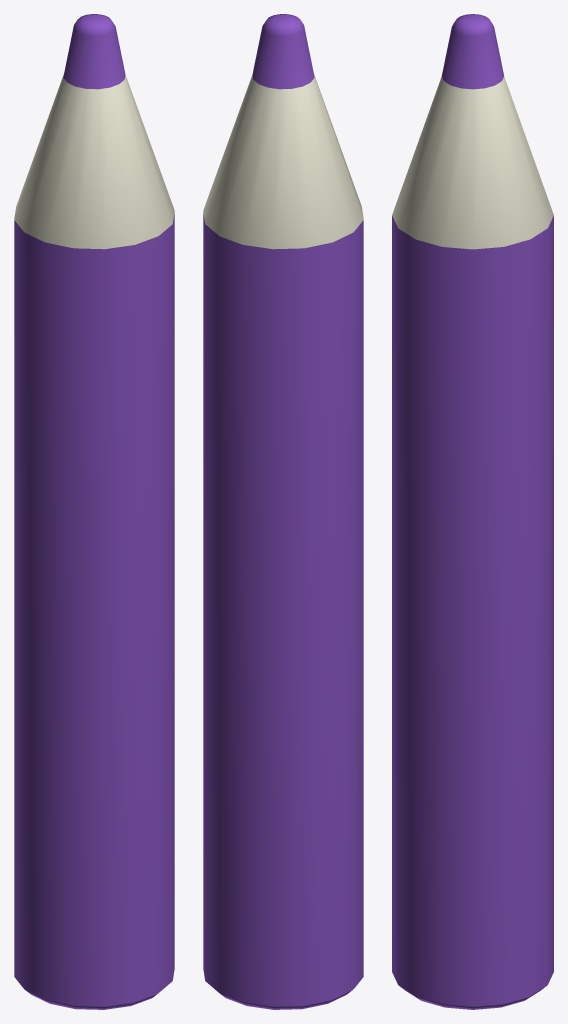
The model's file is Public_8_Pencil_3.glb.
3 renders of one model, left to right at view 1: azimuth 30°, elevation 25°; view 2: azimuth 150°, elevation 25°; view 3: azimuth 270°, elevation 25°, orthographic.
Visible parts, largest first — view 1: Public_8_Pencil_3; view 2: Public_8_Pencil_3; view 3: Public_8_Pencil_3.
Boxes of the visible parts, <box> form: Public_8_Pencil_3: <box>14,14,174,1009</box>; Public_8_Pencil_3: <box>203,14,363,1009</box>; Public_8_Pencil_3: <box>392,14,553,1009</box>.
Size of the model in its own units: 0.1578 by 1.03 by 0.1578.
Materials: 1 (1 with a texture image).
